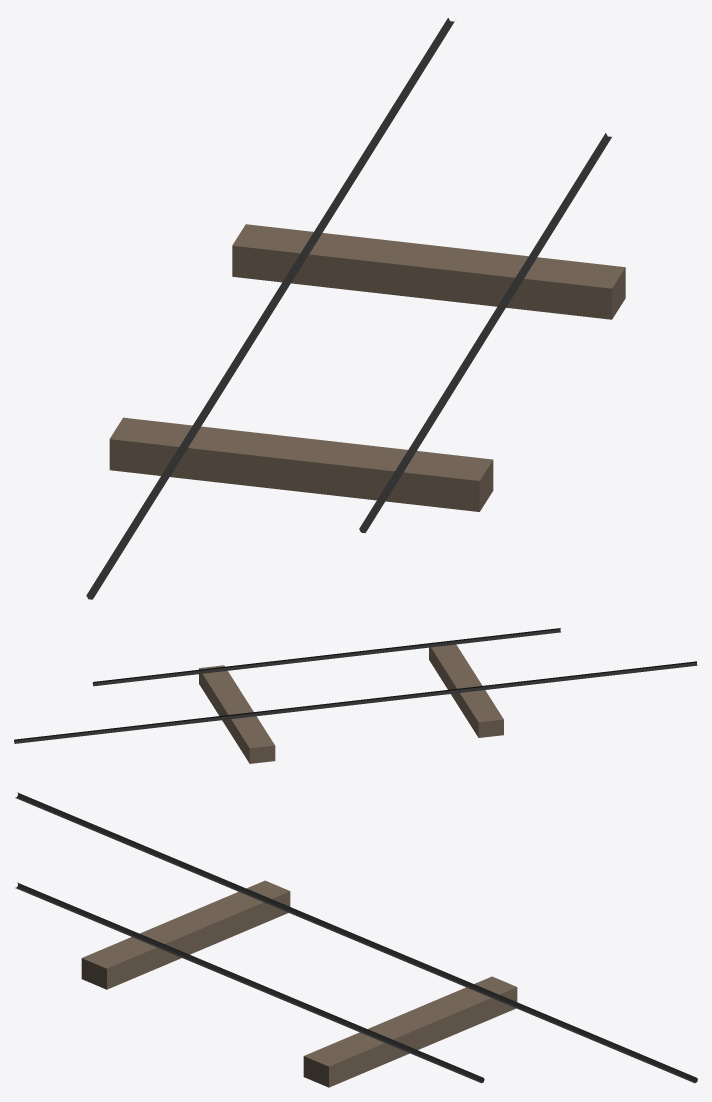
3 views of the same model, one above another, from view 1: azimuth 30°, elevation 25°; view 2: azimuth 150°, elevation 25°; view 3: azimuth 270°, elevation 25° (orthographic). The views are drawn at different scales.
Parts seen in each view (by area): view 1: RL50 | archived geometry, RL50 | line, light and sprite surfaces; view 2: RL50 | archived geometry, RL50 | line, light and sprite surfaces; view 3: RL50 | archived geometry, RL50 | line, light and sprite surfaces.
Boxes of the visible parts, <box> form: RL50 | archived geometry: <box>109,224,625,511</box>; RL50 | line, light and sprite surfaces: <box>86,18,611,599</box>; RL50 | archived geometry: <box>199,644,503,763</box>; RL50 | line, light and sprite surfaces: <box>14,628,697,743</box>; RL50 | archived geometry: <box>81,880,517,1087</box>; RL50 | line, light and sprite surfaces: <box>15,792,697,1083</box>.
Size of the model in its own units: 9.56 by 0.6486 by 9.62.
